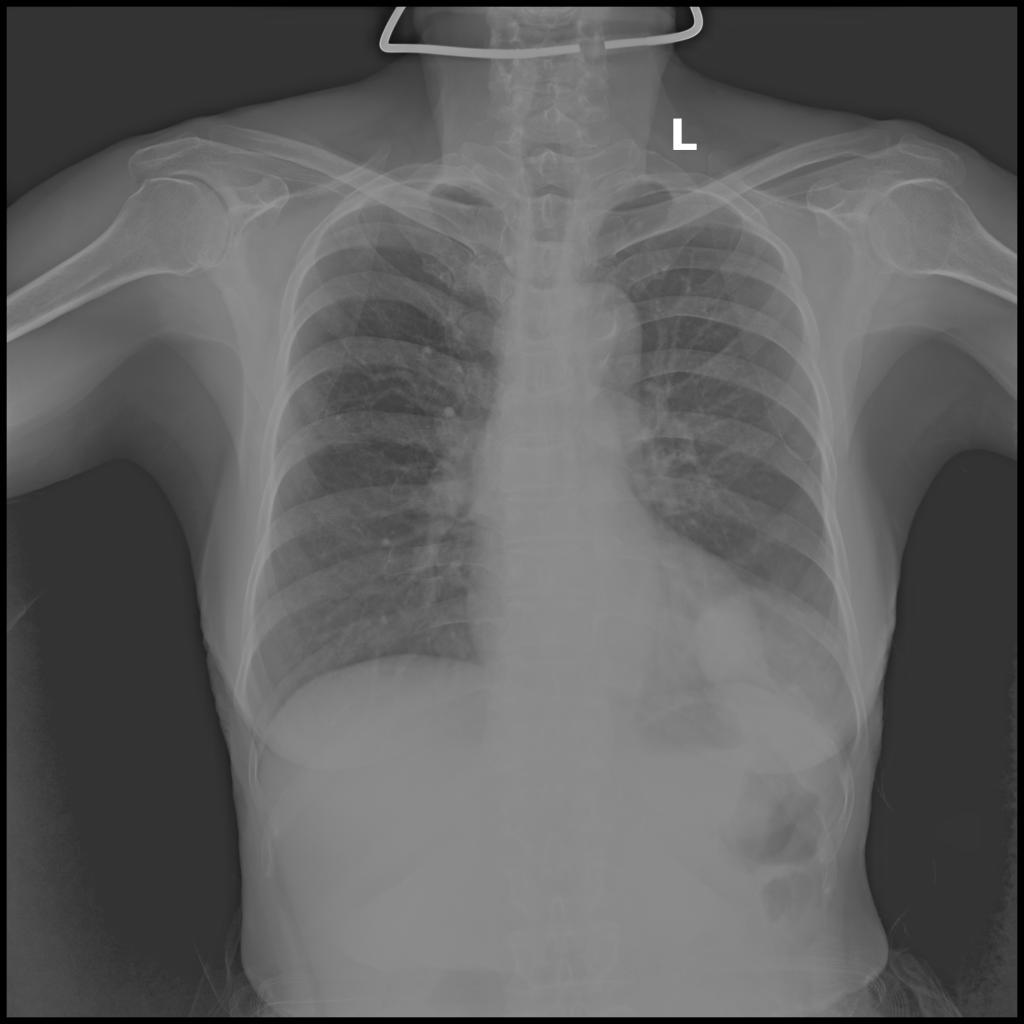Nodule: (697, 584, 840, 715)
